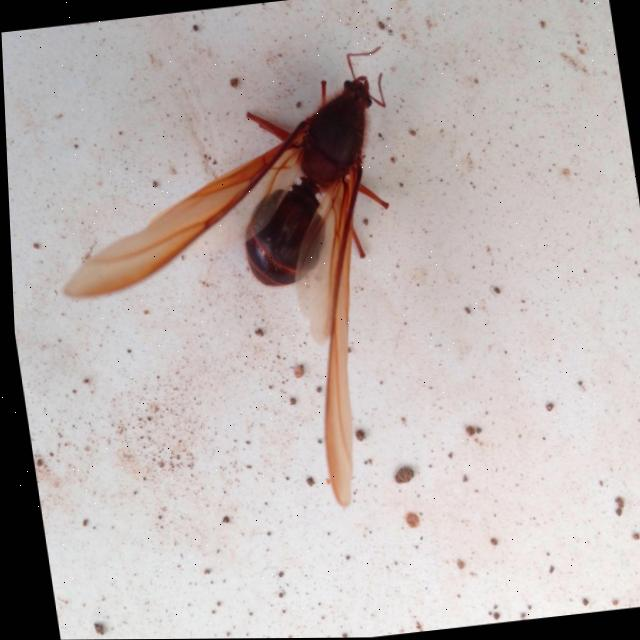Dead-Male-Alate: (29, 45, 446, 535)
